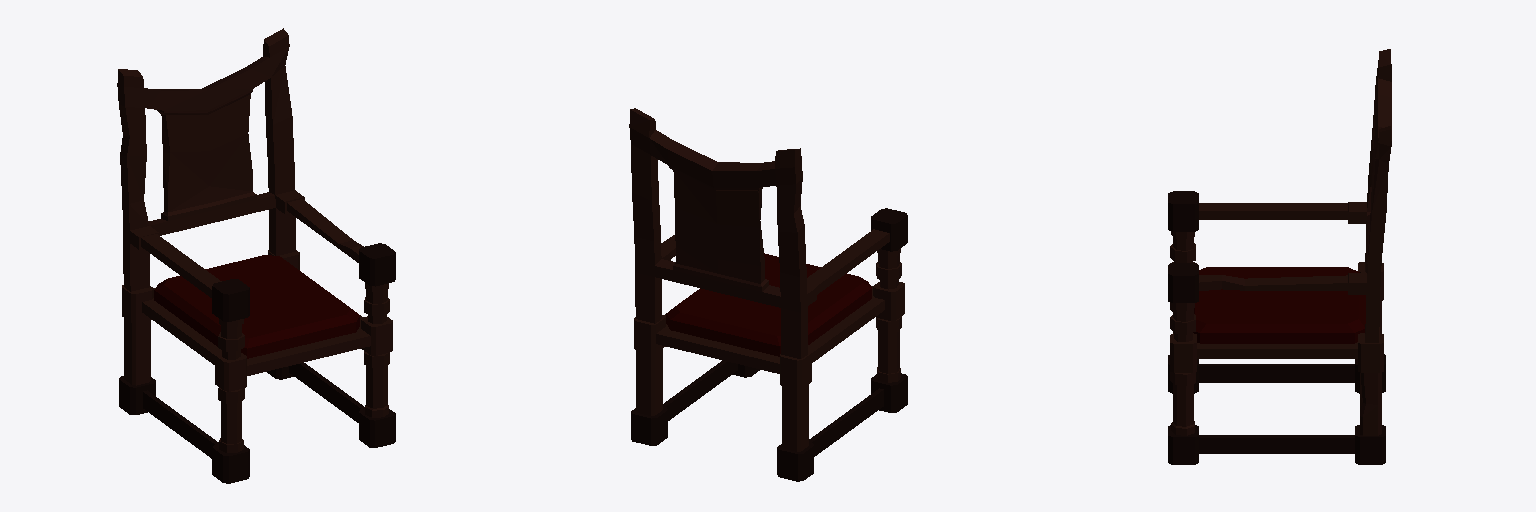
File: Chair.obj
3 views of the same model, side by side, from view 1: azimuth 30°, elevation 25°; view 2: azimuth 150°, elevation 25°; view 3: azimuth 270°, elevation 25° (orthographic).
Parts seen in each view (by area): view 1: Chair_Cube.027; view 2: Chair_Cube.027; view 3: Chair_Cube.027.
Part boxes in pixels (x1,y1,x2,y2): Chair_Cube.027: (117,28,395,483); Chair_Cube.027: (629,108,907,481); Chair_Cube.027: (1168,49,1391,464).
Bounding box in the file's own units: 0.627 × 1.16 × 0.7024.